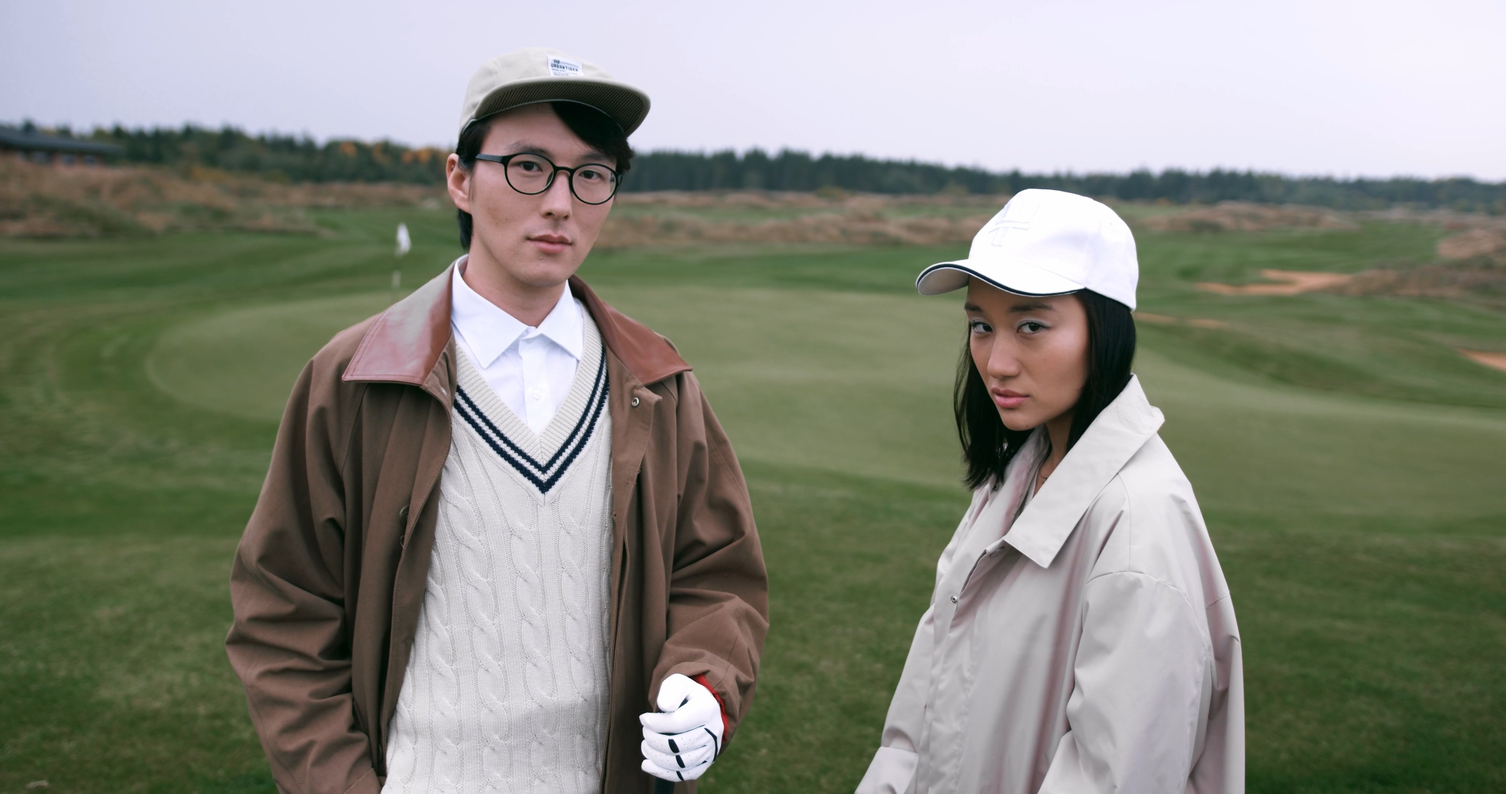gloves: (629, 669, 757, 784)
